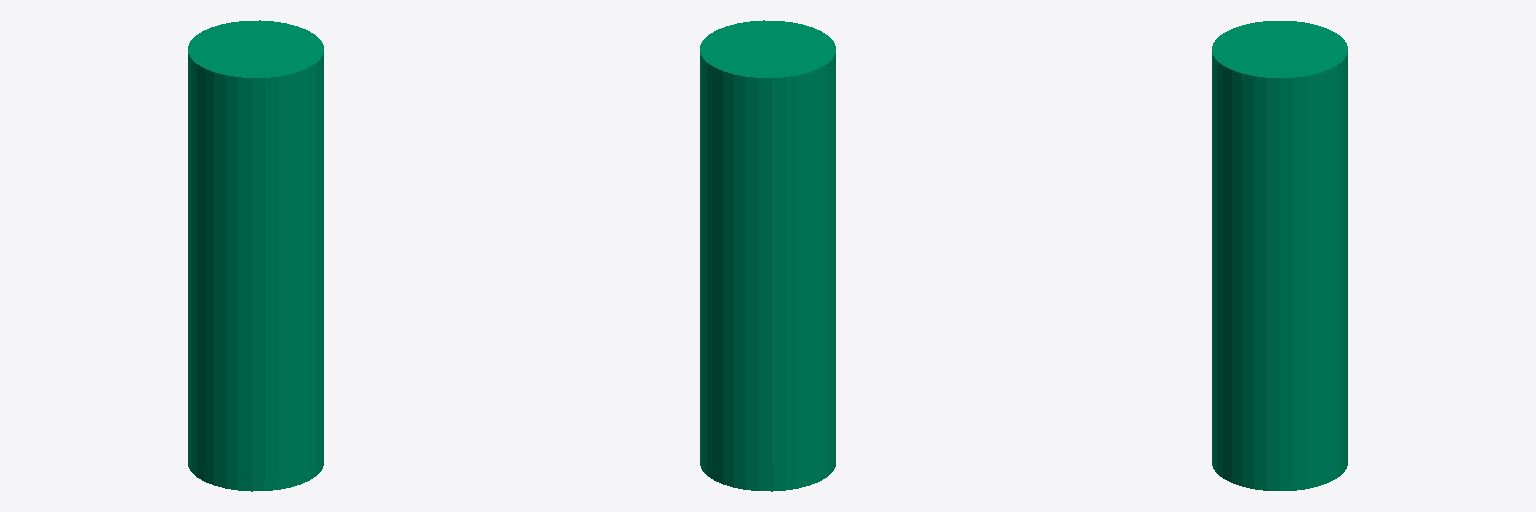
URDF robot description (ur5):
<?xml version="1.0" ?>
<robot name="ur5">
  <joint name="ur5__elbow_joint" type="revolute">
    <parent link="ur5__upper_arm_link"/>
    <child link="ur5__forearm_link"/>
    <origin rpy="0 0 0" xyz="0     -0.1197  0.425"/>
    <axis xyz="0 1 0"/>
    <limit effort="150.0" lower="-3.14159" upper="3.14159" velocity="3.15"/>
  </joint>
  <joint name="ur5__pedestal_JOINT_1" type="fixed">
    <parent link="ur5__pedestal"/>
    <child link="ur5__base_link"/>
    <origin rpy="0 0 0" xyz="0 0 0"/>
    <axis xyz="0 0 0"/>
    <limit effort="0" lower="0" upper="0" velocity="0"/>
  </joint>
  <joint name="ur5__shoulder_lift_joint" type="revolute">
    <parent link="ur5__shoulder_link"/>
    <child link="ur5__upper_arm_link"/>
    <origin rpy="3.14148 1.57079 3.14148" xyz="0      0.13585 0"/>
    <axis xyz="0 1 0"/>
    <limit effort="150.0" lower="-6.28319" upper="6.28319" velocity="3.15"/>
  </joint>
  <joint name="ur5__shoulder_pan_joint" type="revolute">
    <parent link="ur5__base_link"/>
    <child link="ur5__shoulder_link"/>
    <origin rpy="0 0 0" xyz="0      0      0.08915"/>
    <axis xyz="0 0 1"/>
    <limit effort="150.0" lower="-6.28319" upper="6.28319" velocity="3.15"/>
  </joint>
  <joint name="ur5__wrist_1_joint" type="revolute">
    <parent link="ur5__forearm_link"/>
    <child link="ur5__wrist_1_link"/>
    <origin rpy="0.39713 1.57078 0.39713" xyz="0      0      0.39225"/>
    <axis xyz="0 1 0"/>
    <limit effort="28.0" lower="-6.28319" upper="6.28319" velocity="3.2"/>
  </joint>
  <joint name="ur5__wrist_2_joint" type="revolute">
    <parent link="ur5__wrist_1_link"/>
    <child link="ur5__wrist_2_link"/>
    <origin rpy="0 0 0" xyz="0    0.093 0"/>
    <axis xyz="0 0 1"/>
    <limit effort="28.0" lower="-6.28319" upper="6.28319" velocity="3.2"/>
  </joint>
  <joint name="ur5__wrist_3_joint" type="revolute">
    <parent link="ur5__wrist_2_link"/>
    <child link="ur5__wrist_3_link"/>
    <origin rpy="0 0 0" xyz="0      0      0.09465"/>
    <axis xyz="0 1 0"/>
    <limit effort="28.0" lower="-6.28319" upper="6.28319" velocity="3.2"/>
  </joint>
  <link name="ur5__base_link">
    <inertial>
      <mass value="4"/>
      <origin rpy="0 0 0" xyz="0 0 0"/>
      <inertia ixx="0.00443333" ixy="0" ixz="0" iyy="0.00443333" iyz="0" izz="0.0072"/>
    </inertial>
    <collision name="ur5__base_link_collision">
      <origin rpy="0 0 0" xyz="0 0 0"/>
      <geometry>
        <mesh filename="[local-path]/RR_Project/simulation/models/ur5/meshes/ur5/collision/base.stl" scale="1 1 1"/>
      </geometry>
    </collision>
    <visual name="ur5__base_link_visual">
      <origin rpy="0 0 0" xyz="0 0 0"/>
      <geometry>
        <mesh filename="[local-path]/RR_Project/simulation/models/ur5/meshes/ur5/visual/base.dae" scale="1 1 1"/>
      </geometry>
    </visual>
  </link>
  <link name="ur5__forearm_link">
    <inertial>
      <mass value="2.275"/>
      <origin rpy="0 0 0" xyz="0   0   0.25"/>
      <inertia ixx="0.0494433" ixy="0" ixz="0" iyy="0.0494433" iyz="0" izz="0.004095"/>
    </inertial>
    <collision name="ur5__forearm_link_collision">
      <origin rpy="0 0 0" xyz="0 0 0"/>
      <geometry>
        <mesh filename="[local-path]/RR_Project/simulation/models/ur5/meshes/ur5/collision/forearm.stl" scale="1 1 1"/>
      </geometry>
    </collision>
    <visual name="ur5__forearm_link_visual">
      <origin rpy="0 0 0" xyz="0 0 0"/>
      <geometry>
        <mesh filename="[local-path]/RR_Project/simulation/models/ur5/meshes/ur5/visual/forearm.dae" scale="1 1 1"/>
      </geometry>
    </visual>
  </link>
  <link name="ur5__pedestal">
    <inertial>
      <mass value="1"/>
      <origin rpy="0 0 0" xyz="0 0 0"/>
      <inertia ixx="0.145833" ixy="0" ixz="0" iyy="0.145833" iyz="0" izz="0.125"/>
    </inertial>
    <collision name="ur5__collision">
      <origin rpy="-2.0e-05  1.4e-04  0.0e+00" xyz="0   0  -0.5"/>
      <geometry>
        <cylinder length="1" radius="0.15"/>
      </geometry>
    </collision>
    <visual name="ur5__visual">
      <origin rpy="-2.0e-05  1.4e-04  0.0e+00" xyz="0   0  -0.5"/>
      <geometry>
        <cylinder length="1" radius="0.15"/>
      </geometry>
    </visual>
  </link>
  <link name="ur5__shoulder_link">
    <inertial>
      <mass value="3.7"/>
      <origin rpy="0 0 0" xyz="0 0 0"/>
      <inertia ixx="0.0102675" ixy="0" ixz="0" iyy="0.0102675" iyz="0" izz="0.00666"/>
    </inertial>
    <collision name="ur5__shoulder_link_collision">
      <origin rpy="0 0 0" xyz="0 0 0"/>
      <geometry>
        <mesh filename="[local-path]/RR_Project/simulation/models/ur5/meshes/ur5/collision/shoulder.stl" scale="1 1 1"/>
      </geometry>
    </collision>
    <visual name="ur5__shoulder_link_visual">
      <origin rpy="0 0 0" xyz="0 0 0"/>
      <geometry>
        <mesh filename="[local-path]/RR_Project/simulation/models/ur5/meshes/ur5/visual/shoulder.dae" scale="1 1 1"/>
      </geometry>
    </visual>
  </link>
  <link name="ur5__upper_arm_link">
    <inertial>
      <mass value="8.393"/>
      <origin rpy="0 0 0" xyz="0   0   0.28"/>
      <inertia ixx="0.226891" ixy="0" ixz="0" iyy="0.226891" iyz="0" izz="0.0151074"/>
    </inertial>
    <collision name="ur5__upper_arm_link_collision">
      <origin rpy="0 0 0" xyz="0 0 0"/>
      <geometry>
        <mesh filename="[local-path]/RR_Project/simulation/models/ur5/meshes/ur5/collision/upperarm.stl" scale="1 1 1"/>
      </geometry>
    </collision>
    <visual name="ur5__upper_arm_link_visual">
      <origin rpy="0 0 0" xyz="0 0 0"/>
      <geometry>
        <mesh filename="[local-path]/RR_Project/simulation/models/ur5/meshes/ur5/visual/upperarm.dae" scale="1 1 1"/>
      </geometry>
    </visual>
  </link>
  <link name="ur5__wrist_1_link">
    <inertial>
      <mass value="1.219"/>
      <origin rpy="0 0 0" xyz="0 0 0"/>
      <inertia ixx="0.111173" ixy="0" ixz="0" iyy="0.111173" iyz="0" izz="0.21942"/>
    </inertial>
    <collision name="ur5__wrist_1_link_collision">
      <origin rpy="0 0 0" xyz="0 0 0"/>
      <geometry>
        <mesh filename="[local-path]/RR_Project/simulation/models/ur5/meshes/ur5/collision/wrist1.stl" scale="1 1 1"/>
      </geometry>
    </collision>
    <visual name="ur5__wrist_1_link_visual">
      <origin rpy="0 0 0" xyz="0 0 0"/>
      <geometry>
        <mesh filename="[local-path]/RR_Project/simulation/models/ur5/meshes/ur5/visual/wrist1.dae" scale="1 1 1"/>
      </geometry>
    </visual>
  </link>
  <link name="ur5__wrist_2_link">
    <inertial>
      <mass value="1.219"/>
      <origin rpy="0 0 0" xyz="0 0 0"/>
      <inertia ixx="0.111173" ixy="0" ixz="0" iyy="0.111173" iyz="0" izz="0.21942"/>
    </inertial>
    <collision name="ur5__wrist_2_link_collision">
      <origin rpy="0 0 0" xyz="0 0 0"/>
      <geometry>
        <mesh filename="[local-path]/RR_Project/simulation/models/ur5/meshes/ur5/collision/wrist2.stl" scale="1 1 1"/>
      </geometry>
    </collision>
    <visual name="ur5__wrist_2_link_visual">
      <origin rpy="0 0 0" xyz="0 0 0"/>
      <geometry>
        <mesh filename="[local-path]/RR_Project/simulation/models/ur5/meshes/ur5/visual/wrist2.dae" scale="1 1 1"/>
      </geometry>
    </visual>
  </link>
  <link name="ur5__wrist_3_link">
    <inertial>
      <mass value="0.18791"/>
      <origin rpy="0 0 0" xyz="0 0 0"/>
      <inertia ixx="0.0171375" ixy="6.10083e-20" ixz="5.38596e-20" iyy="0.0171375" iyz="-3.42632e-08" izz="0.033823"/>
    </inertial>
    <collision name="ur5__wrist_3_link_collision">
      <origin rpy="0 0 0" xyz="0 0 0"/>
      <geometry>
        <mesh filename="[local-path]/RR_Project/simulation/models/ur5/meshes/ur5/collision/wrist3.stl" scale="1 1 1"/>
      </geometry>
    </collision>
    <visual name="ur5__wrist_3_link_visual">
      <origin rpy="0 0 0" xyz="0 0 0"/>
      <geometry>
        <mesh filename="[local-path]/RR_Project/simulation/models/ur5/meshes/ur5/visual/wrist3.dae" scale="1 1 1"/>
      </geometry>
    </visual>
  </link>
</robot>

--- What the picture shows (computed from the rendered views, not written in the file) ---
The picture shows the robot from 3 angles, left to right: view 1: azimuth 30°, elevation 25°; view 2: azimuth 150°, elevation 25°; view 3: azimuth 270°, elevation 25°; orthographic projection.
Robot: ur5 — 8 links, 7 joints (6 revolute, 1 fixed); root link ur5__pedestal; default pose: all joints at 0.
Links seen in each view (by area): view 1: ur5__pedestal; view 2: ur5__pedestal; view 3: ur5__pedestal.
Link boxes in pixels (left/top/right/bottom): ur5__pedestal: left=188, top=20, right=323, bottom=491; ur5__pedestal: left=700, top=20, right=835, bottom=491; ur5__pedestal: left=1212, top=21, right=1347, bottom=490.
Bounding box of the posed robot: 0.3001 × 0.3 × 1 m (x, y, z).
Geometry: only primitive shapes (box / cylinder / sphere) drawn; not drawn: 7 mesh visuals (reference in a form the renderer does not follow).